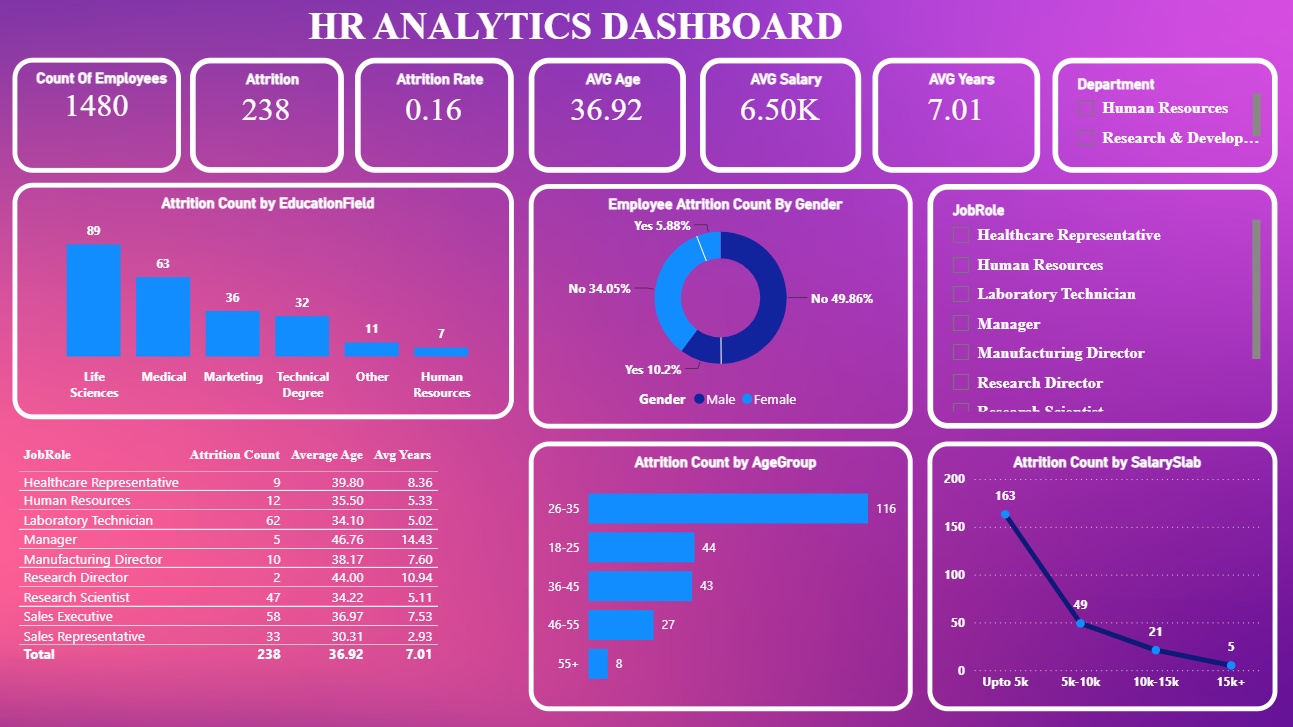

What the dashboard file says about the page in this screenshot:
{"tool":"powerbi","page":{"name":"Page 1","canvas":[1280,720],"ordinal":0},"visuals":[{"type":"textbox","box":[12.3,0,1112.3,58],"z":0},{"type":"cardVisual","title":"Count Of Employees","fields":{"Data":["HR_Analytics.Total Employees Display"]},"box":[12.3,58,166.7,113.6],"z":1000},{"type":"cardVisual","title":"Attrition Rate","fields":{"Data":["HR_Analytics.Attrition Rate"]},"box":[350.6,58,156.8,113.6],"z":2000},{"type":"cardVisual","title":"Attrition","fields":{"Data":["HR_Analytics.Attrition Count"]},"box":[187.7,58,151.9,113.6],"z":3000},{"type":"cardVisual","title":"AVG Age","fields":{"Data":["HR_Analytics.Average Age"]},"box":[522.2,58,155.6,113.6],"z":4000},{"type":"cardVisual","title":"AVG Years","fields":{"Data":["HR_Analytics.Avg Years"]},"box":[861.7,58,165.4,113.6],"z":5000},{"type":"cardVisual","title":"AVG Salary","fields":{"Data":["HR_Analytics.Avg Salary"]},"box":[691.4,58,159.3,113.6],"z":6000},{"type":"columnChart","fields":{"Y":["HR_Analytics.Attrition Count"],"Category":["HR_Analytics.EducationField"]},"box":[12.3,181.5,495.1,233.3],"z":7000},{"type":"donutChart","title":"Employee Attrition Count By Gender","fields":{"Category":["HR_Analytics.Gender"],"Series":["HR_Analytics.Attrition"],"Y":["CountNonNull(HR_Analytics.Attrition)"]},"box":[522.2,182.7,379,242],"z":8000},{"type":"barChart","fields":{"Category":["HR_Analytics.AgeGroup"],"Y":["HR_Analytics.Attrition Count"]},"box":[522.2,437,379,266.7],"z":9000},{"type":"lineChart","fields":{"Y":["HR_Analytics.Attrition Count"],"Category":["HR_Analytics.SalarySlab"]},"box":[916,437,354.3,256.8],"z":10000},{"type":"slicer","fields":{"Values":["HR_Analytics.Department"]},"box":[1039.5,58,222.2,113.6],"z":10002},{"type":"slicer","fields":{"Values":["HR_Analytics.JobRole"]},"box":[916,182.7,345.7,242],"z":10004},{"type":"tableEx","fields":{"Values":["HR_Analytics.JobRole","HR_Analytics.Attrition Count","HR_Analytics.Average Age","HR_Analytics.Avg Years"]},"box":[12,437,495,267],"z":10005}]}

Visuals, with their boxes in screenshot pixels (x1, y1, x2, y2), scaled from the page's 1280x720 canvas onto the 1293x727 screenshot:
textbox: pyautogui.locateOnScreen(12, 0, 1136, 59)
"Count Of Employees" cardVisual: pyautogui.locateOnScreen(12, 59, 181, 173)
"Attrition Rate" cardVisual: pyautogui.locateOnScreen(354, 59, 513, 173)
"Attrition" cardVisual: pyautogui.locateOnScreen(190, 59, 343, 173)
"AVG Age" cardVisual: pyautogui.locateOnScreen(528, 59, 685, 173)
"AVG Years" cardVisual: pyautogui.locateOnScreen(870, 59, 1038, 173)
"AVG Salary" cardVisual: pyautogui.locateOnScreen(698, 59, 859, 173)
columnChart - HR_Analytics.Attrition Count x HR_Analytics.EducationField: pyautogui.locateOnScreen(12, 183, 513, 419)
"Employee Attrition Count By Gender" donutChart: pyautogui.locateOnScreen(528, 184, 910, 429)
barChart - HR_Analytics.AgeGroup x HR_Analytics.Attrition Count: pyautogui.locateOnScreen(528, 441, 910, 711)
lineChart - HR_Analytics.Attrition Count x HR_Analytics.SalarySlab: pyautogui.locateOnScreen(925, 441, 1283, 701)
slicer - HR_Analytics.Department: pyautogui.locateOnScreen(1050, 59, 1275, 173)
slicer - HR_Analytics.JobRole: pyautogui.locateOnScreen(925, 184, 1275, 429)
tableEx - HR_Analytics.JobRole x HR_Analytics.Attrition Count: pyautogui.locateOnScreen(12, 441, 512, 711)
